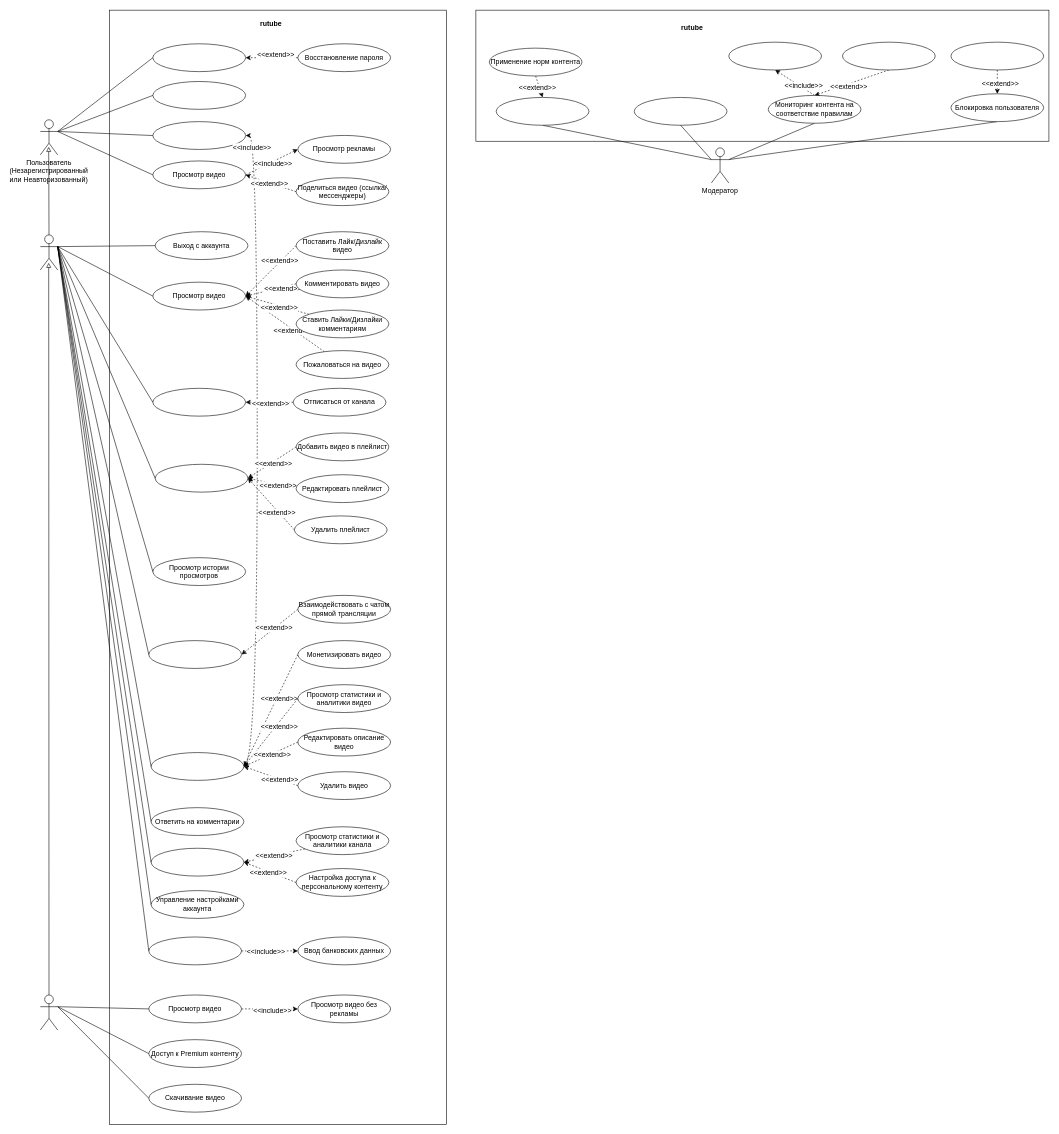
Image size: 1059x1134. Some labels were removed from this diagram. The centre of each missing label's shape, as x and y in pixels:
Авторизация: point 199,95
Вести прямую трансляцию: point 195,654
Загрузить видео: point 197,766
Оформить подписку на Premium: point 195,950
Подписаться на канал: point 199,402
Подписчик Premium: point 49,1012
Поиск контента (видео/прямые трансляции/ каналы): point 199,135
Пользователь ( Авторизованный): point 49,252
Просмотр жалоб на контент: point 775,56
Работа с партнерскими программами: point 680,111
Разблокировка пользователя: point 997,56
Регистрация: point 199,57
Создать плейлист: point 201,478
Удаление видео: point 888,56
Управление настройками видеохостинга: point 542,111
Управление настройками канала: point 197,862
